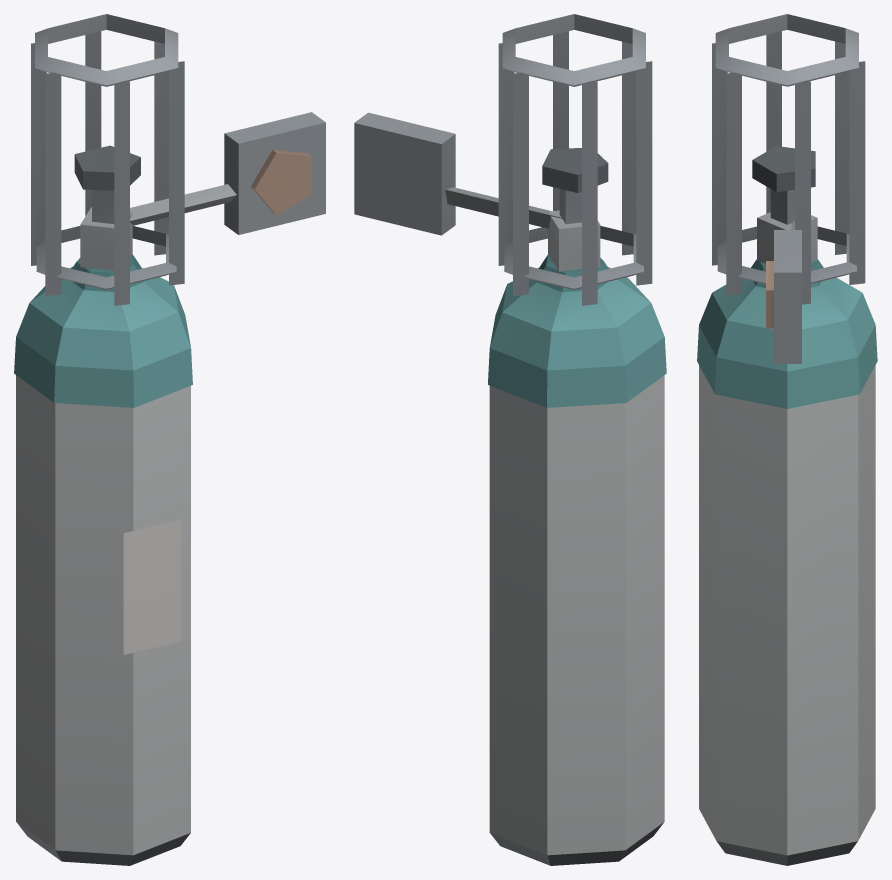
The picture shows the model from 3 angles, left to right: view 1: azimuth 30°, elevation 25°; view 2: azimuth 150°, elevation 25°; view 3: azimuth 270°, elevation 25°; orthographic projection.
Size of the model in its own units: 0.4893 by 1.3 by 0.2715.
